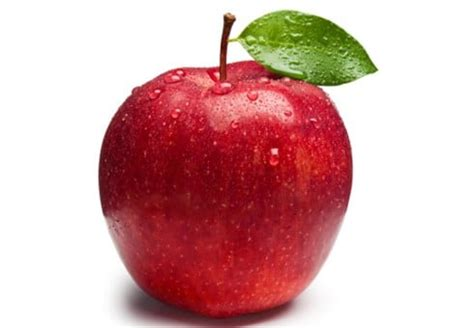apple: (96, 58, 360, 318)
